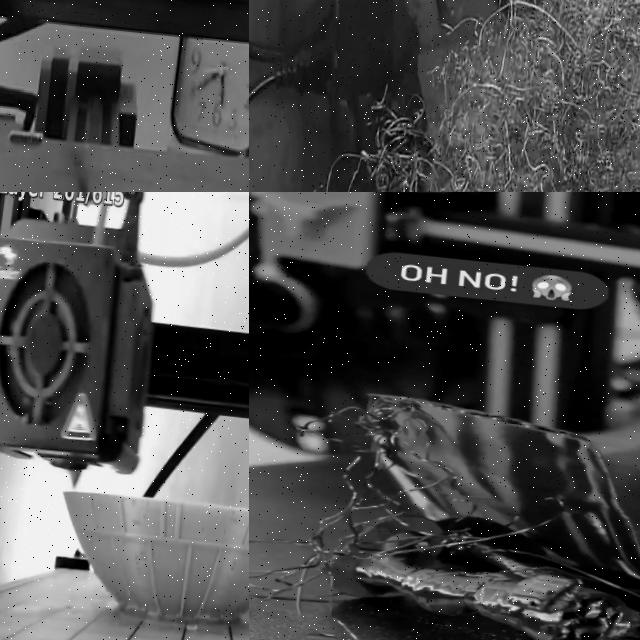spaghetti: (249, 374, 640, 640), (293, 0, 640, 192)
